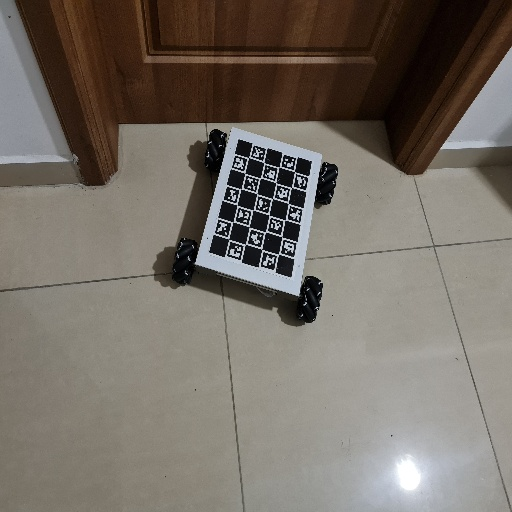Omniwheel: (170, 126, 341, 326)
